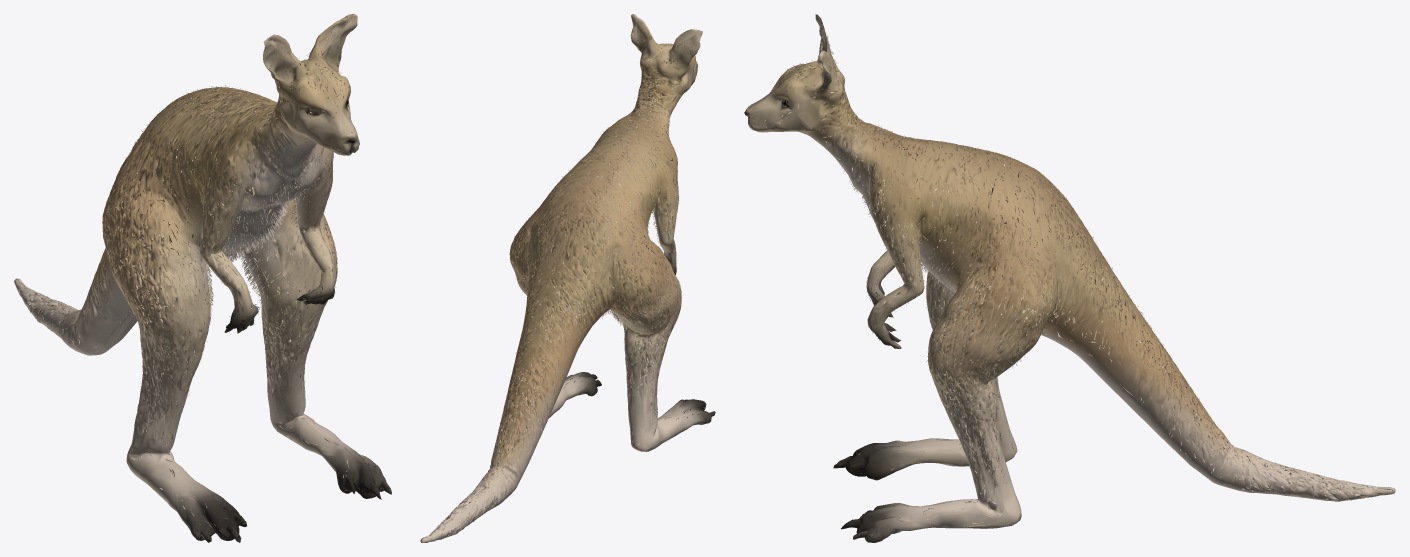
The model's file is model-osphranter-rufus-standing.glb.
The picture shows the model from 3 angles, left to right: view 1: azimuth 30°, elevation 25°; view 2: azimuth 150°, elevation 25°; view 3: azimuth 270°, elevation 25°; orthographic projection. The views are drawn at different scales.
Visible parts, largest first — view 1: Object_2; view 2: Object_2; view 3: Object_2.
Part boxes in pixels (left/top/right/bottom): Object_2: left=14, top=14, right=391, bottom=542; Object_2: left=420, top=14, right=715, bottom=542; Object_2: left=744, top=14, right=1395, bottom=542.
Bounding box in the file's own units: 5.22 × 12.55 × 15.74.
